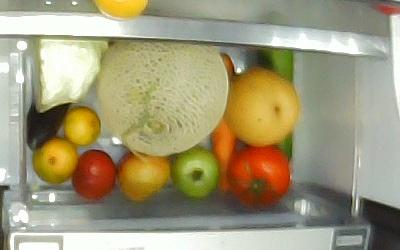cabbage: (33, 37, 105, 116)
carrot: (208, 51, 240, 190)
eggplant: (26, 100, 70, 151)
melon: (97, 39, 229, 157)
pear: (222, 66, 298, 148)
prune: (114, 149, 171, 203), (74, 150, 116, 201)
tangerine: (33, 137, 79, 184), (63, 109, 101, 147)
tomato: (227, 145, 292, 212), (173, 150, 218, 200)
zucchini: (257, 49, 294, 164)
